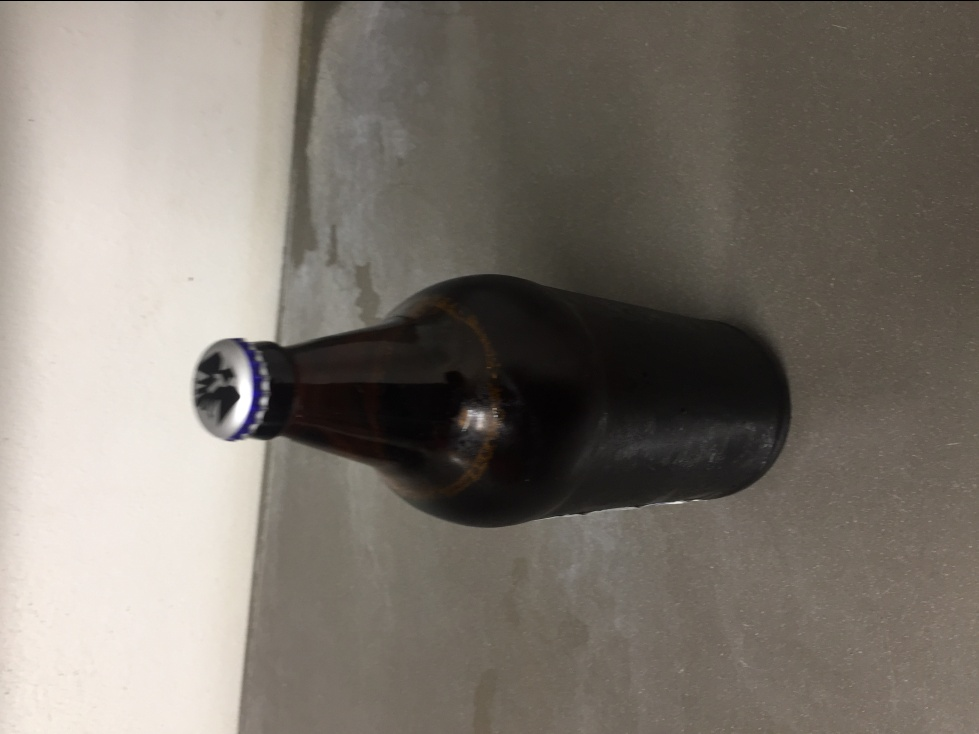tecateC: (189, 273, 799, 532)
